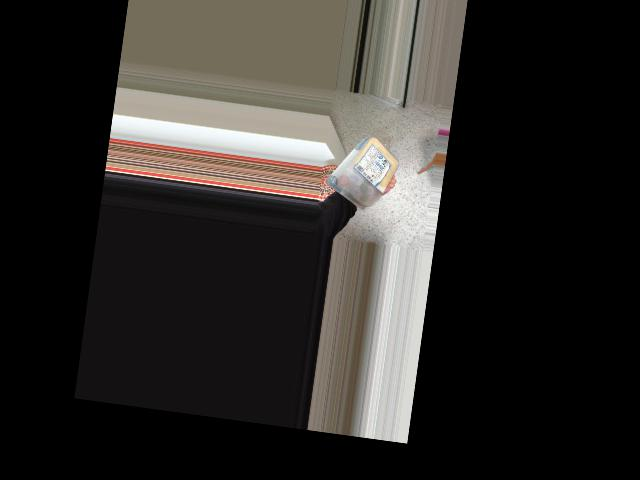cheese: (333, 134, 401, 206)
